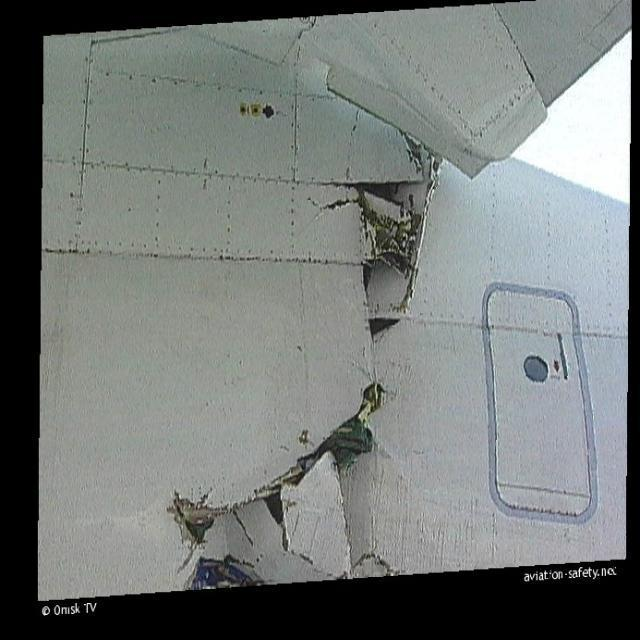crack: (171, 124, 446, 572), (173, 382, 383, 545), (354, 183, 430, 275), (193, 558, 252, 590), (401, 131, 422, 170), (369, 316, 401, 339), (240, 104, 274, 122)
